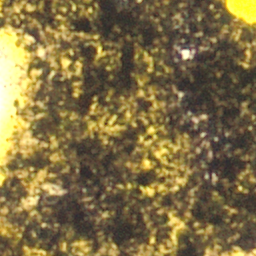air_pores: (223, 0, 255, 26)
cement_matrix: (0, 0, 255, 255), (23, 177, 44, 208), (35, 47, 49, 57), (172, 218, 181, 230), (44, 185, 57, 192), (157, 146, 165, 157), (185, 51, 189, 56)
cracks: (0, 27, 36, 183), (0, 0, 1, 10)
gravel_crushed_stones: (0, 55, 9, 125), (24, 178, 43, 207), (226, 251, 255, 255), (36, 48, 48, 56), (173, 219, 180, 229), (45, 186, 56, 191), (158, 147, 164, 156), (186, 52, 188, 55), (209, 254, 213, 255)
